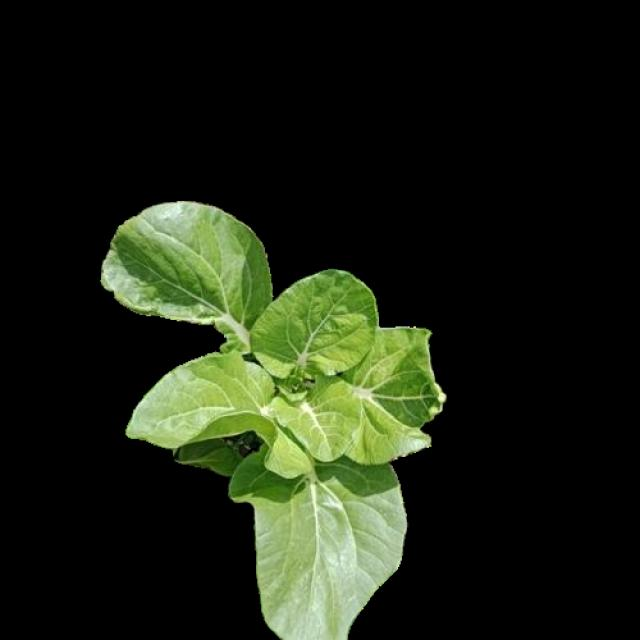mature: (90, 207, 449, 640)
unhealthy: (356, 334, 439, 469)
